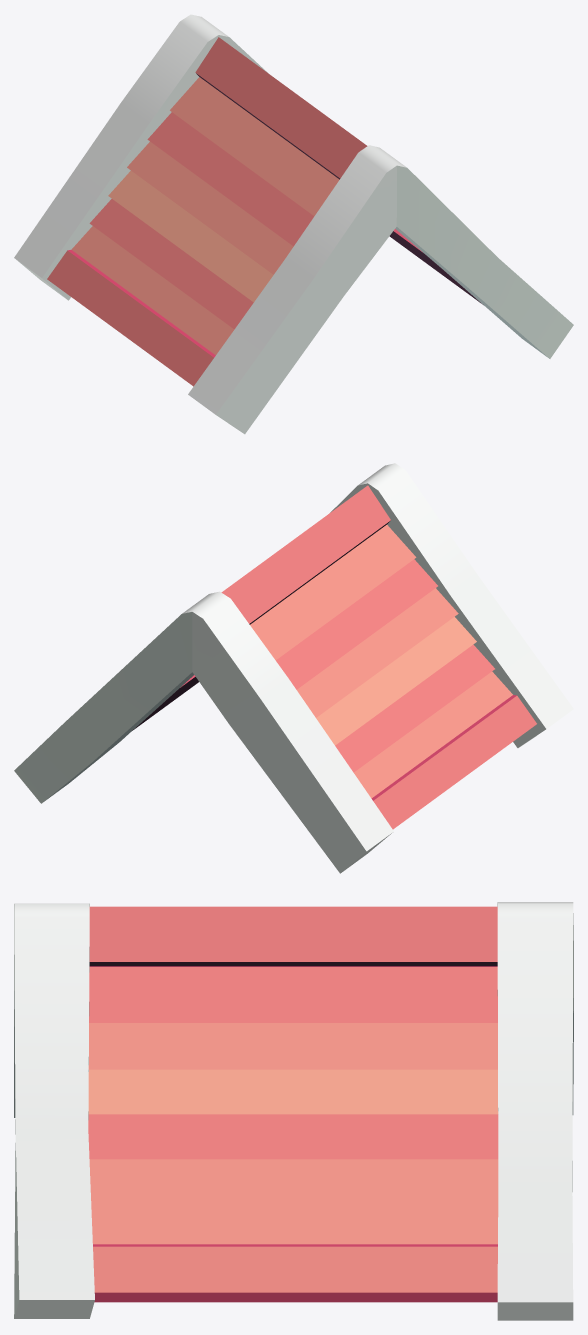
The model's file is Roof03_Pink_White.glb.
3 renders of one model, top to bottom at view 1: azimuth 30°, elevation 25°; view 2: azimuth 150°, elevation 25°; view 3: azimuth 270°, elevation 25°, orthographic. The views are drawn at different scales.
Parts seen in each view (by area): view 1: Roof03_Pink_White; view 2: Roof03_Pink_White; view 3: Roof03_Pink_White.
Boxes of the visible parts, x1,y1,x2,y2 form: Roof03_Pink_White: [14, 14, 573, 434]; Roof03_Pink_White: [14, 463, 573, 873]; Roof03_Pink_White: [14, 902, 573, 1320].
Size of the model in its own units: 2.41 by 1.48 by 2.38.
Materials: 1 (1 with a texture image).
